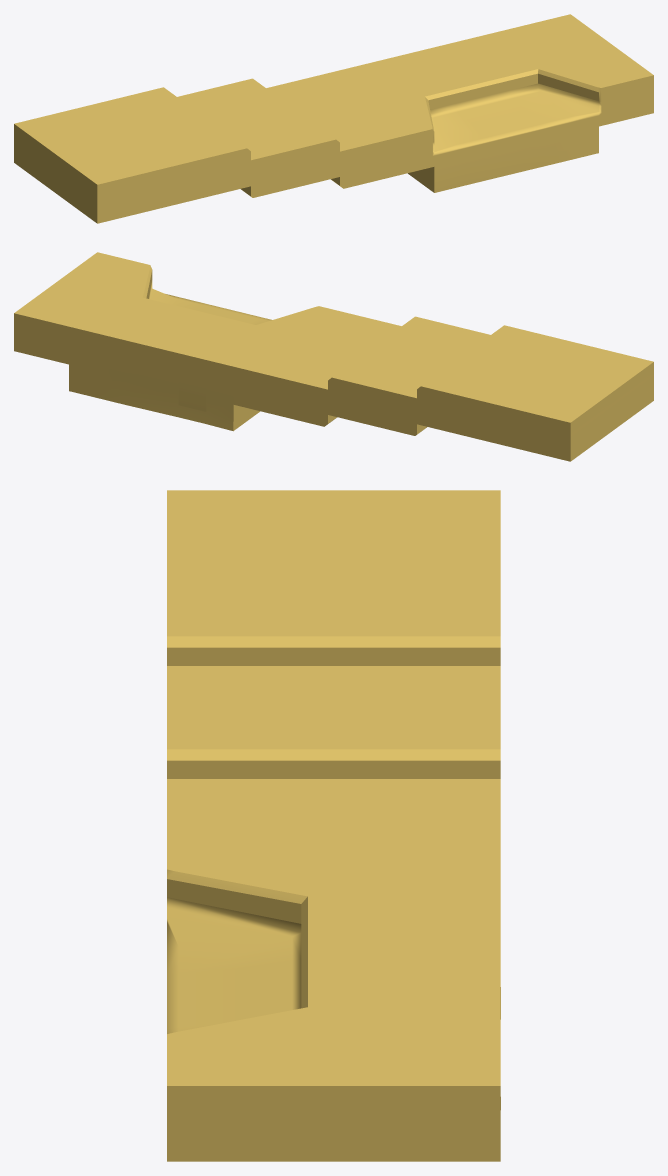
Rendered from Nexus_Stairs.fbx.
The picture shows the model from 3 angles, top to bottom: view 1: azimuth 30°, elevation 25°; view 2: azimuth 150°, elevation 25°; view 3: azimuth 270°, elevation 25°; orthographic projection. The views are drawn at different scales.
Visible parts, largest first — view 1: GEO_Staircase; view 2: GEO_Staircase; view 3: GEO_Staircase.
Part boxes in pixels (x1,y1,x2,y2): GEO_Staircase: (14,14,653,223); GEO_Staircase: (14,252,653,461); GEO_Staircase: (167,490,500,1161).
Bounding box in the file's own units: 231 × 35.96 × 60.05.
